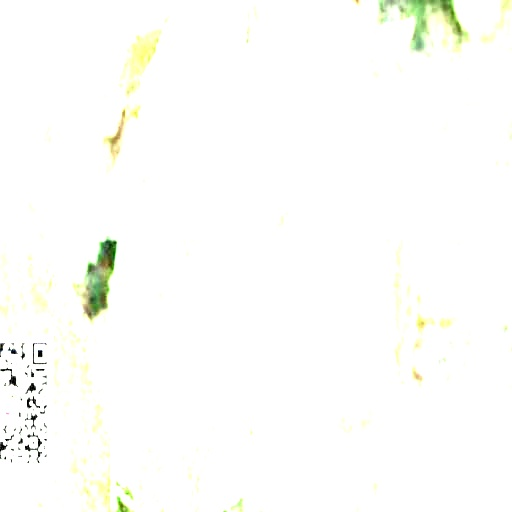Leaf Spot: (134, 29, 382, 511)
